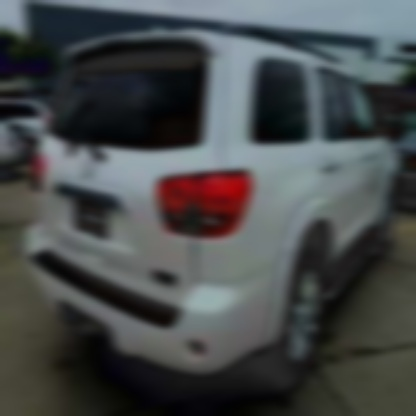Vehicle: (25, 28, 405, 387)
